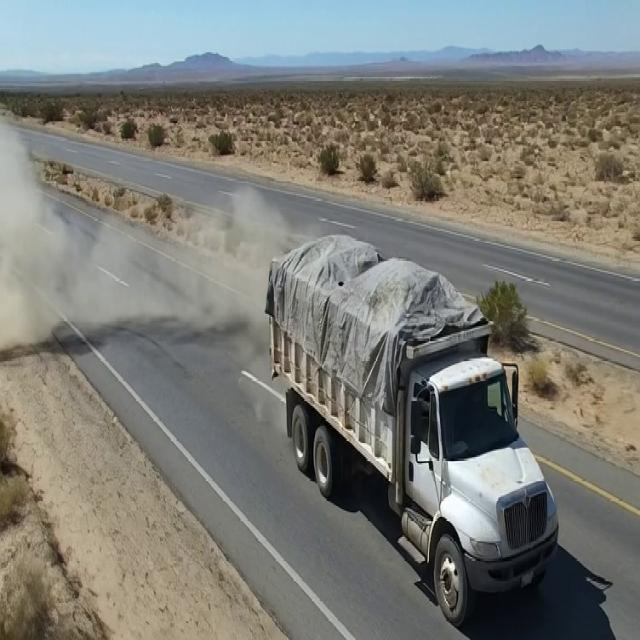Box: (272, 234, 496, 359)
Truck: (260, 218, 567, 622)
